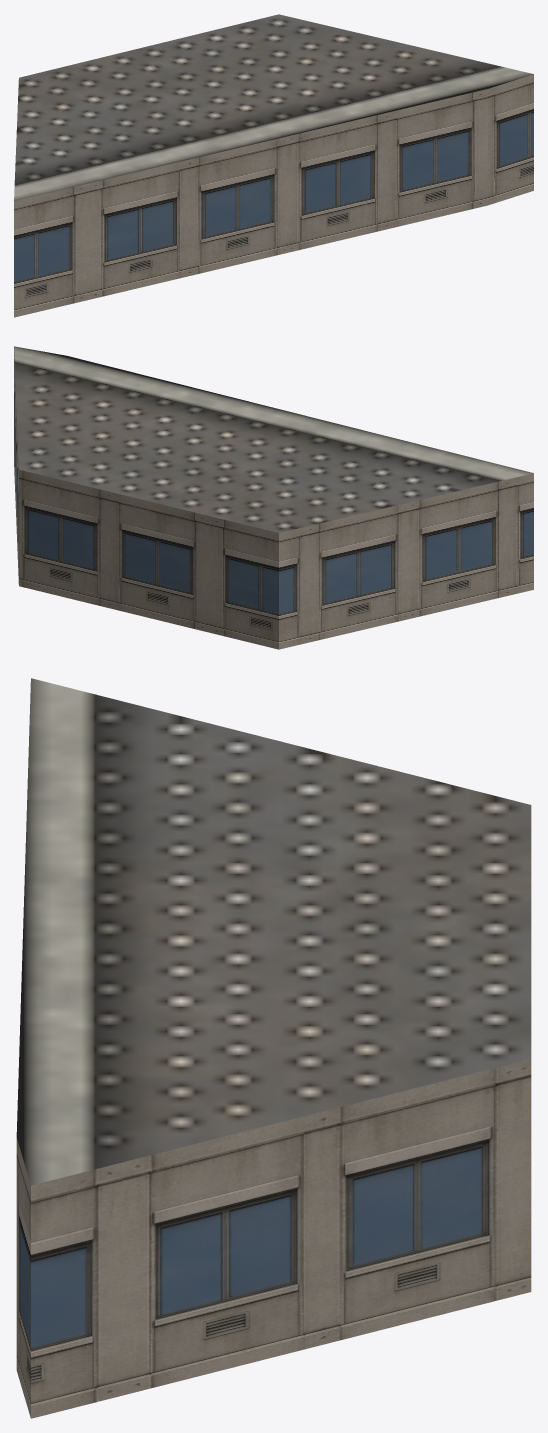
The model's file is building_light_a_64.glb.
3 views of the same model, one above another, from view 1: azimuth 30°, elevation 25°; view 2: azimuth 150°, elevation 25°; view 3: azimuth 270°, elevation 25° (orthographic). The views are drawn at different scales.
Visible parts, largest first — view 1: buildings/saxarba/building_light/building_light_a_64; view 2: buildings/saxarba/building_light/building_light_a_64; view 3: buildings/saxarba/building_light/building_light_a_64.
Boxes of the visible parts, x1,y1,x2,y2 form: buildings/saxarba/building_light/building_light_a_64: (14, 14, 533, 317); buildings/saxarba/building_light/building_light_a_64: (14, 346, 533, 649); buildings/saxarba/building_light/building_light_a_64: (16, 678, 531, 1418).
Size of the model in its own units: 84 by 18 by 36.
